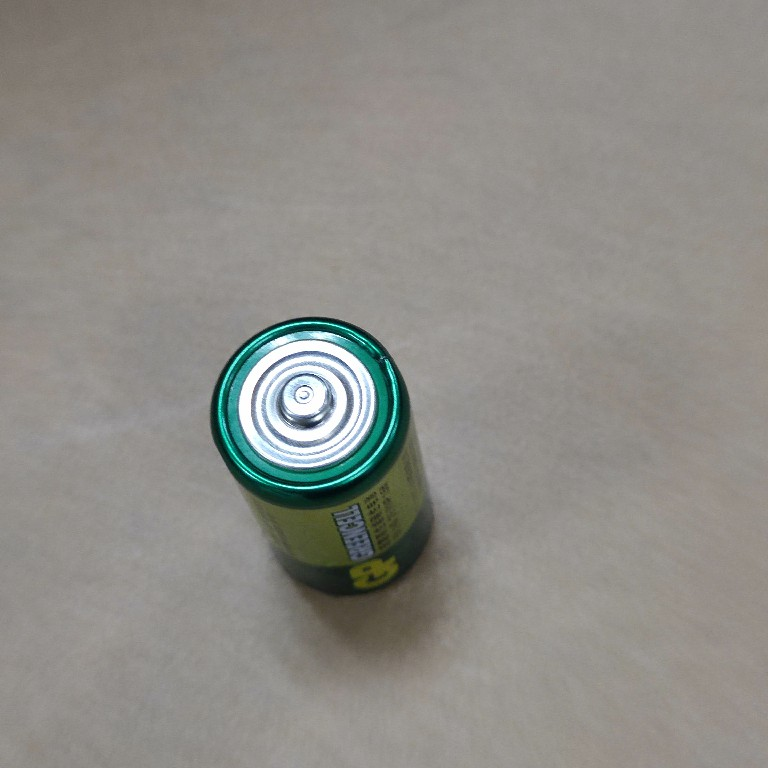charge: (206, 312, 441, 603)
